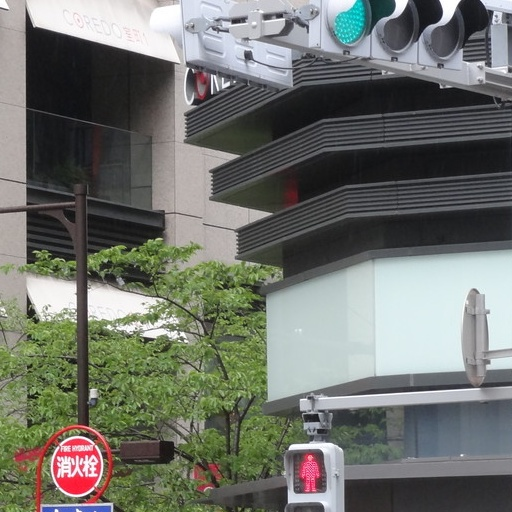Pedestrian_Signal_Red: (276, 432, 348, 511)
